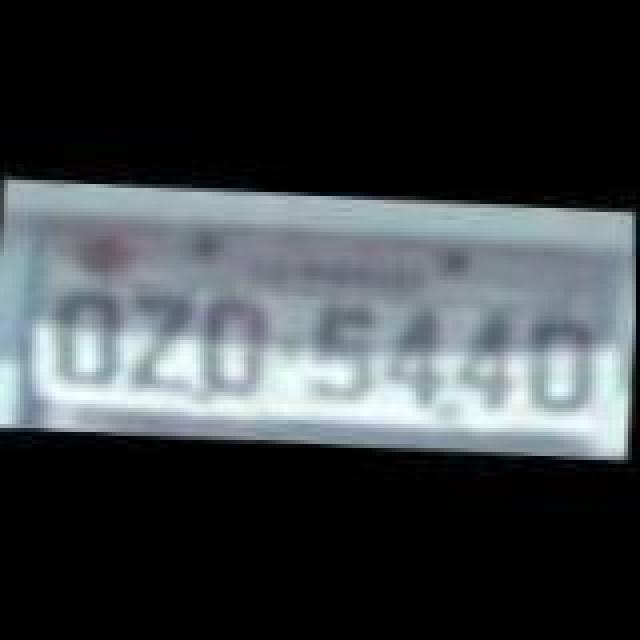4: (384, 304, 456, 412), (454, 312, 522, 416)
5: (312, 300, 384, 396)
O: (520, 306, 600, 422), (198, 292, 274, 400), (56, 288, 128, 392)
Z: (130, 290, 198, 394)
